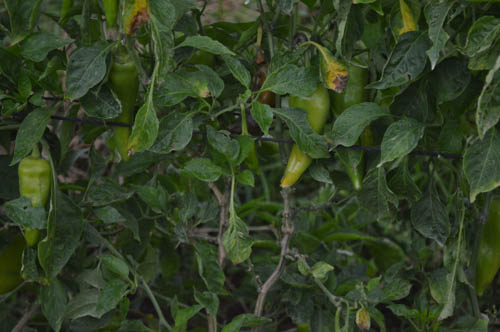ChiliPepper: (285, 88, 331, 188), (102, 66, 132, 154), (336, 70, 372, 143), (14, 159, 45, 240)
